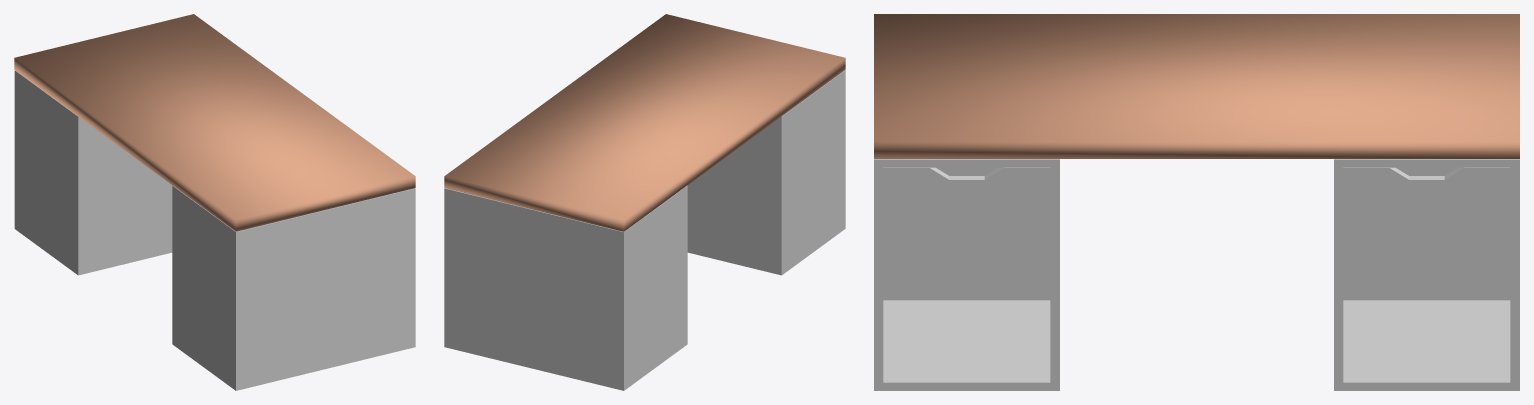
File: Desk.glb
The picture shows the model from 3 angles, left to right: view 1: azimuth 30°, elevation 25°; view 2: azimuth 150°, elevation 25°; view 3: azimuth 270°, elevation 25°; orthographic projection. The views are drawn at different scales.
Visible parts, largest first — view 1: Plane.146, Plane.149, Plane.151; view 2: Plane.146, Plane.151, Plane.149; view 3: Plane.146, Plane.149, Plane.151, Plane.150, Plane.152.
Boxes of the visible parts, <box> form: Plane.146: <box>14,14,415,231</box>; Plane.149: <box>172,185,415,390</box>; Plane.151: <box>14,70,172,275</box>; Plane.146: <box>444,14,845,231</box>; Plane.151: <box>444,185,687,390</box>; Plane.149: <box>687,70,845,275</box>; Plane.146: <box>874,14,1519,158</box>; Plane.149: <box>874,159,1059,390</box>; Plane.151: <box>1334,159,1519,390</box>; Plane.150: <box>883,167,1050,239</box>; Plane.152: <box>1343,167,1510,239</box>.
Size of the model in its own units: 1.02 by 0.9275 by 2.18.
